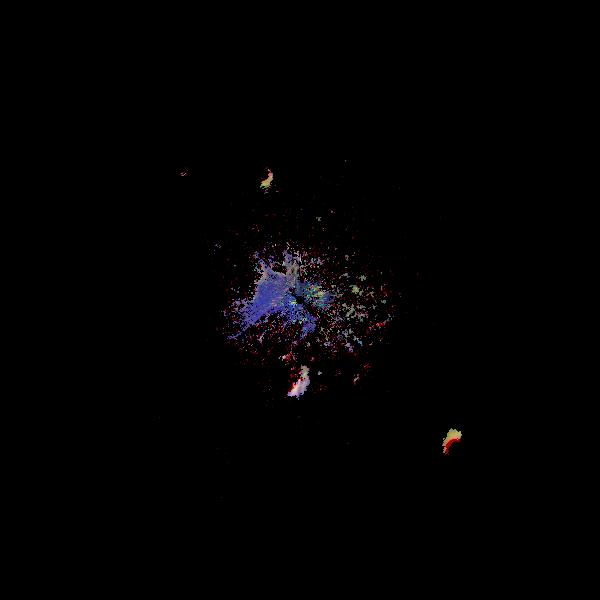roost: (268, 357, 313, 402), (442, 429, 478, 465), (249, 163, 276, 190)
